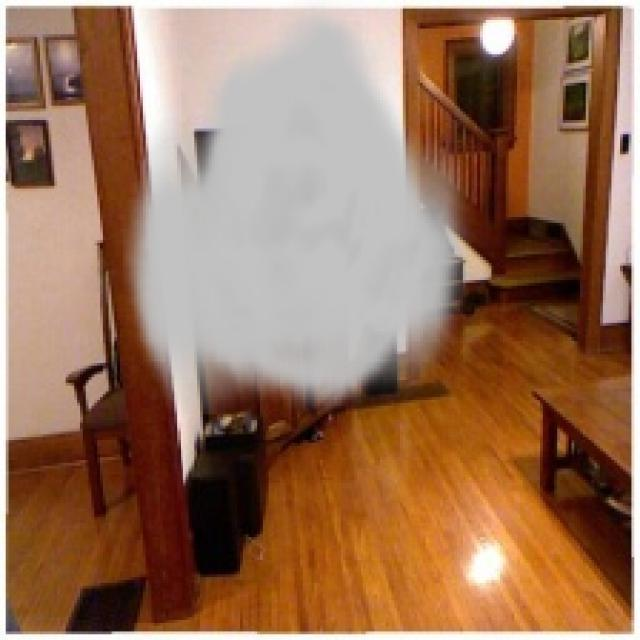Smoke: (122, 0, 478, 415)
